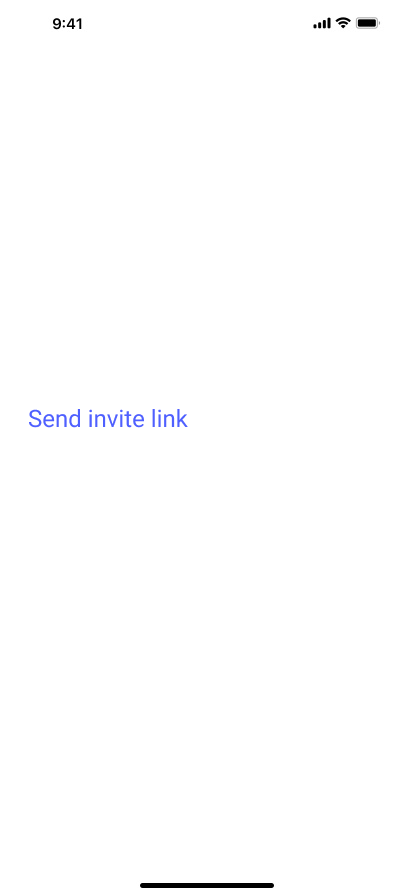Buttons: (8, 394, 208, 444)
Home Indicator: (0, 862, 414, 896)
Status Bar: (0, 0, 414, 44)
